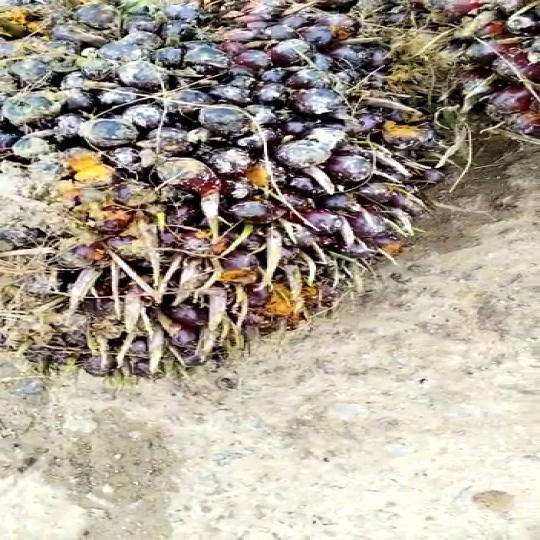kurang masak: (0, 0, 454, 379)
